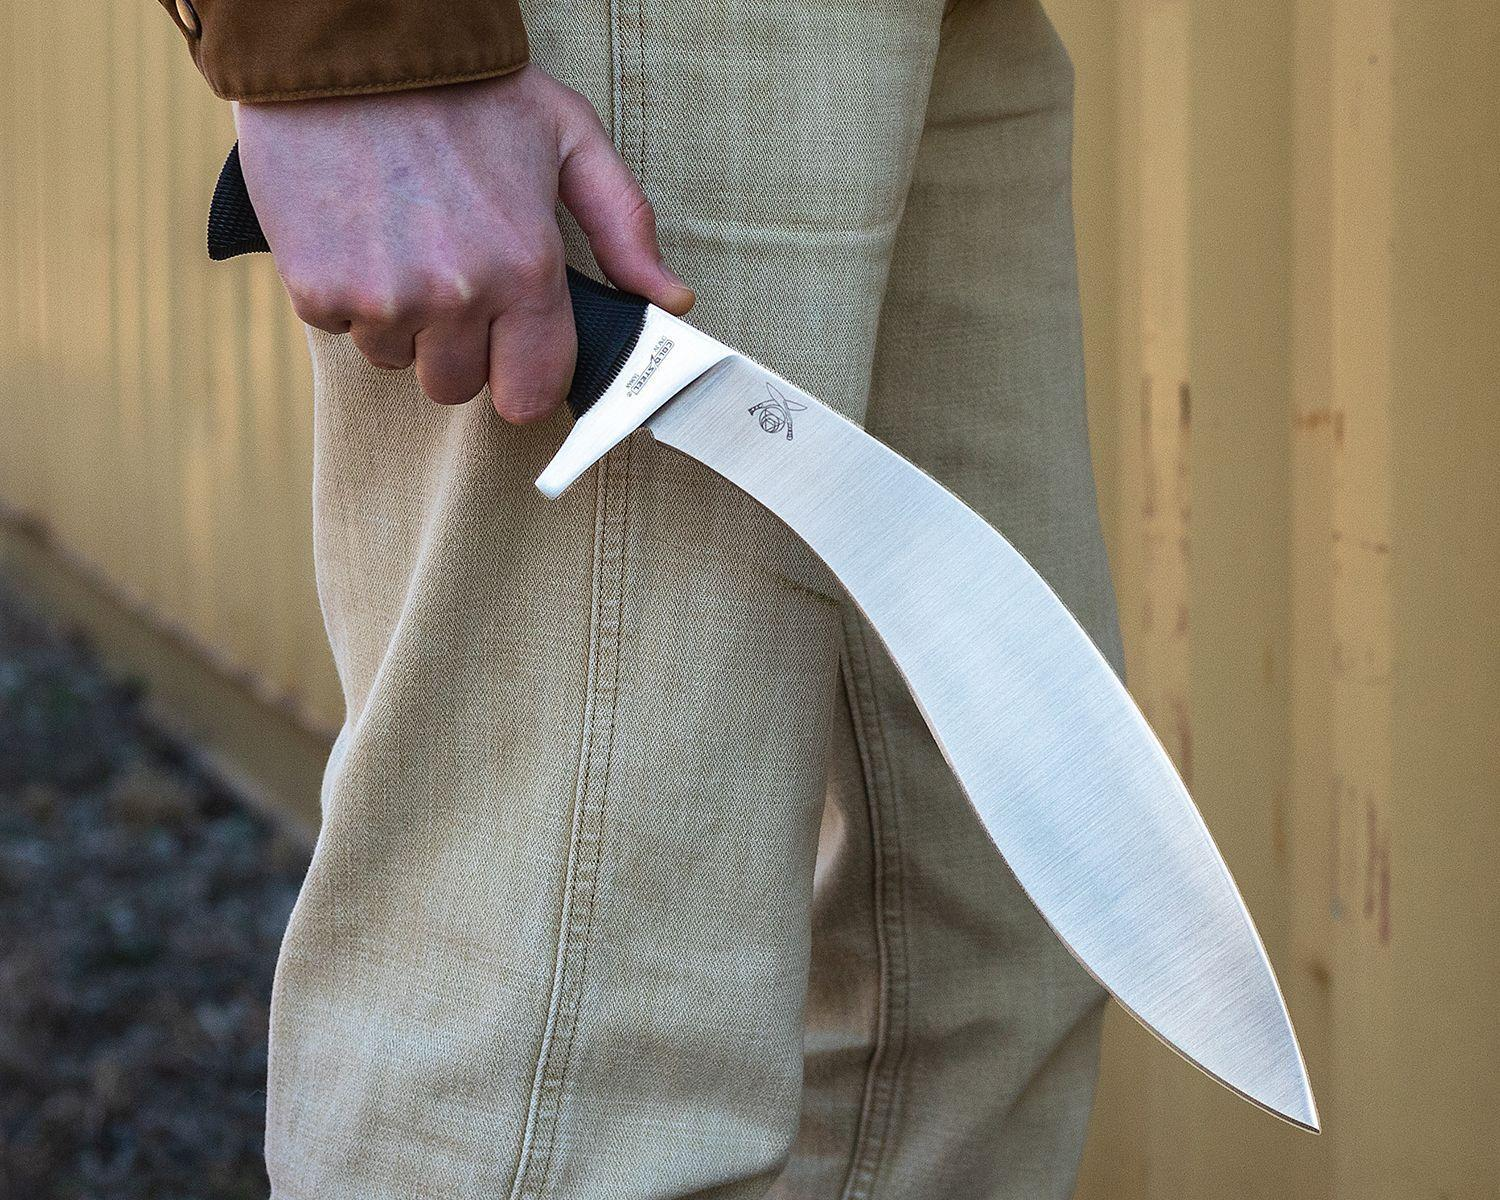facao: (535, 268, 1318, 1129)
